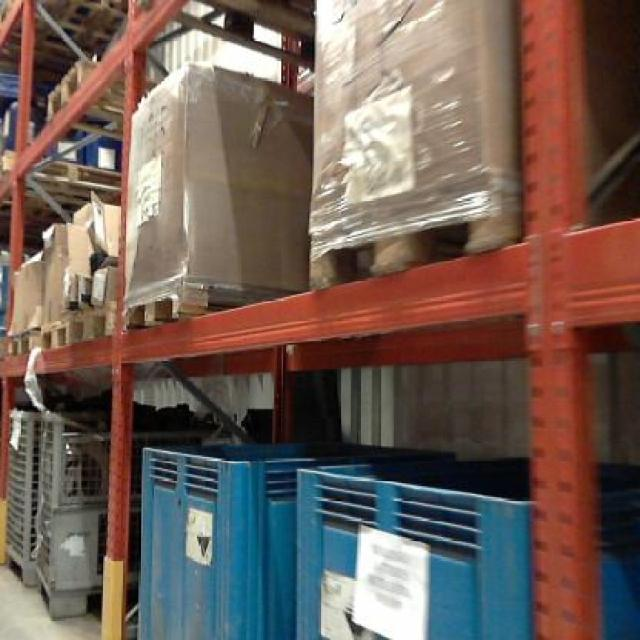ground: (0, 552, 104, 638)
pallet: (308, 189, 519, 293), (124, 277, 303, 334), (3, 548, 100, 622), (33, 297, 120, 354), (43, 52, 103, 126), (22, 158, 119, 193), (0, 320, 46, 363)
